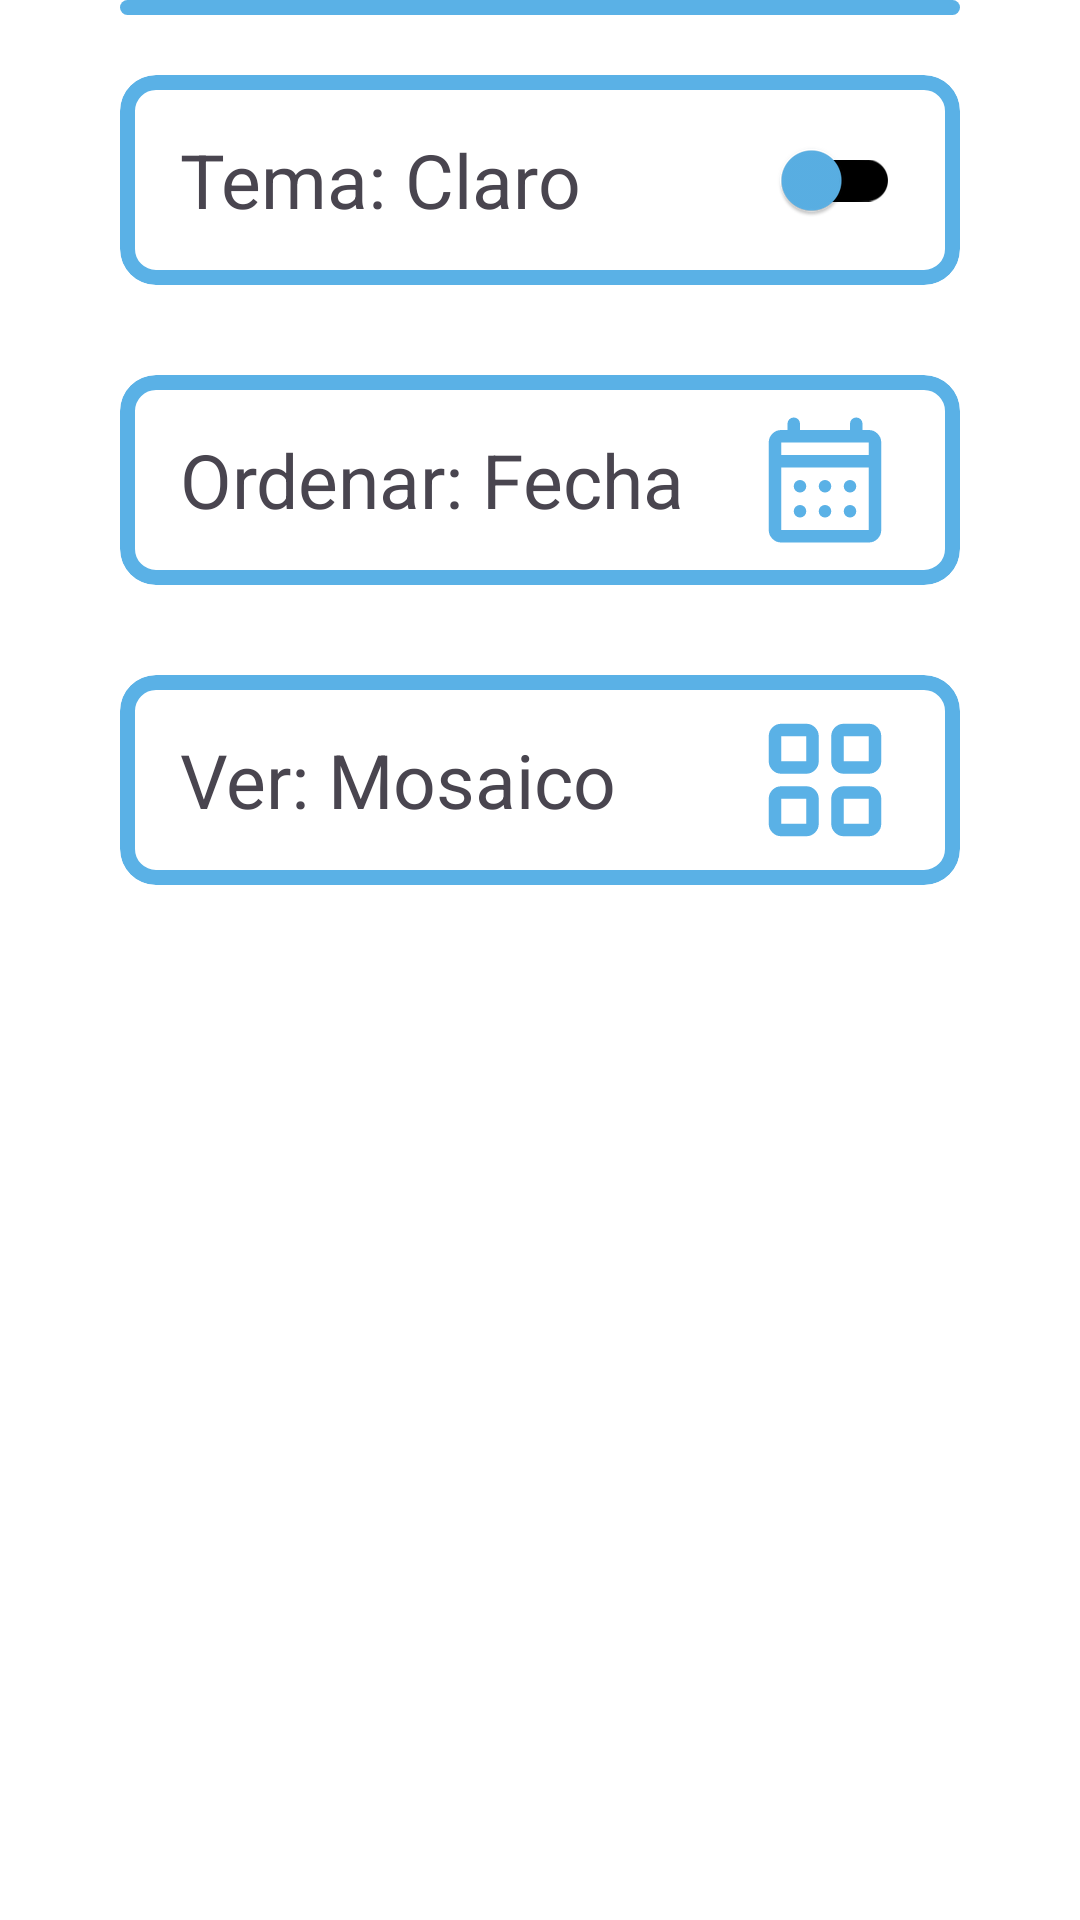

Icon click points for this 1080*1920 phone screenshot, format [x,y]:
Imagen de ver: [825,780]
